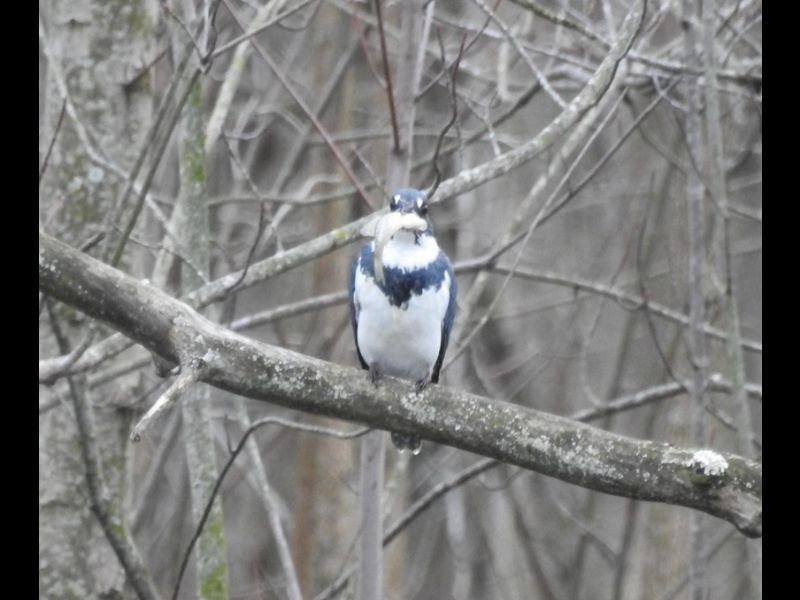kingfisher: (347, 186, 459, 394)
